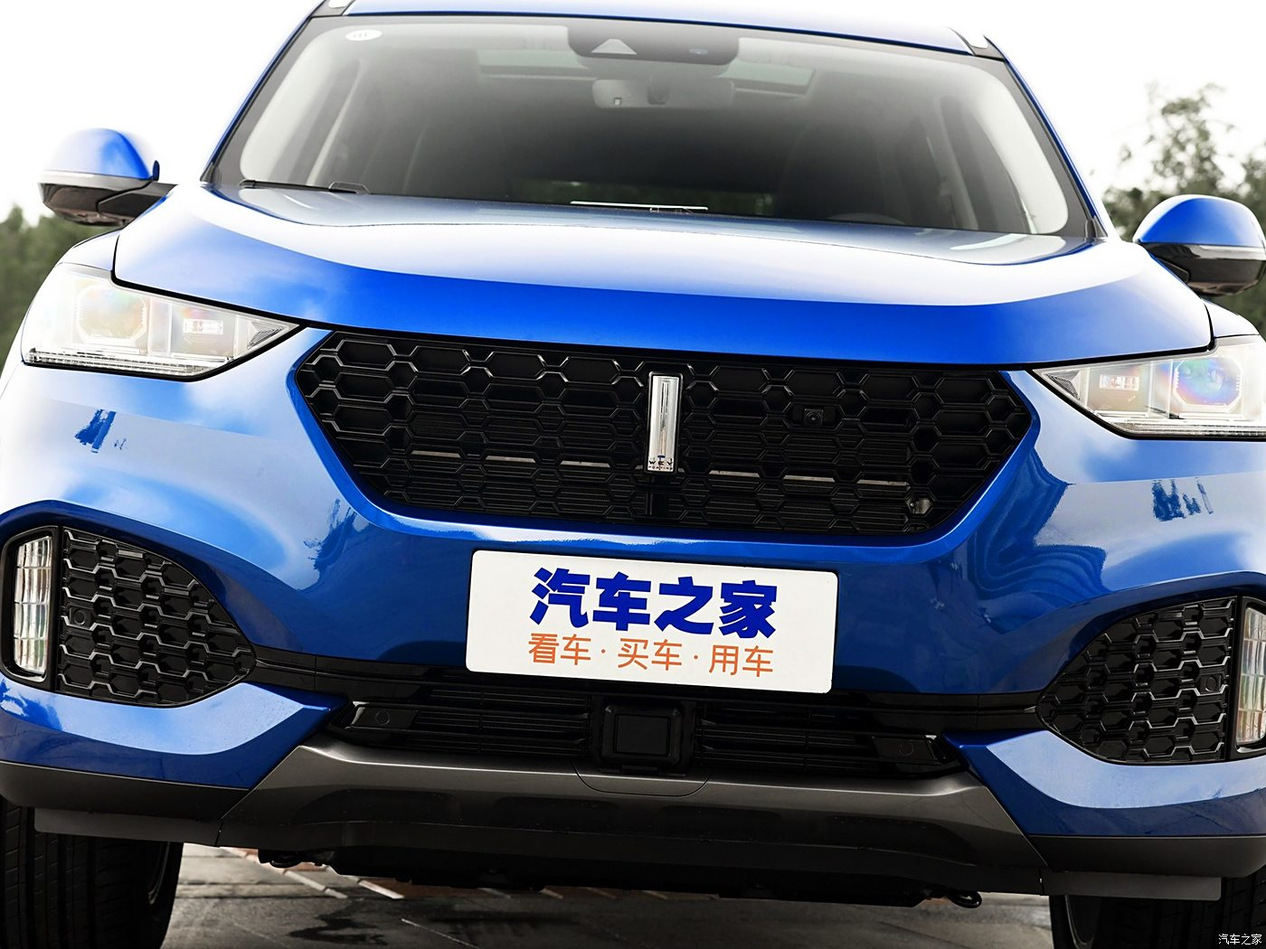WEY: (644, 371, 683, 474)
